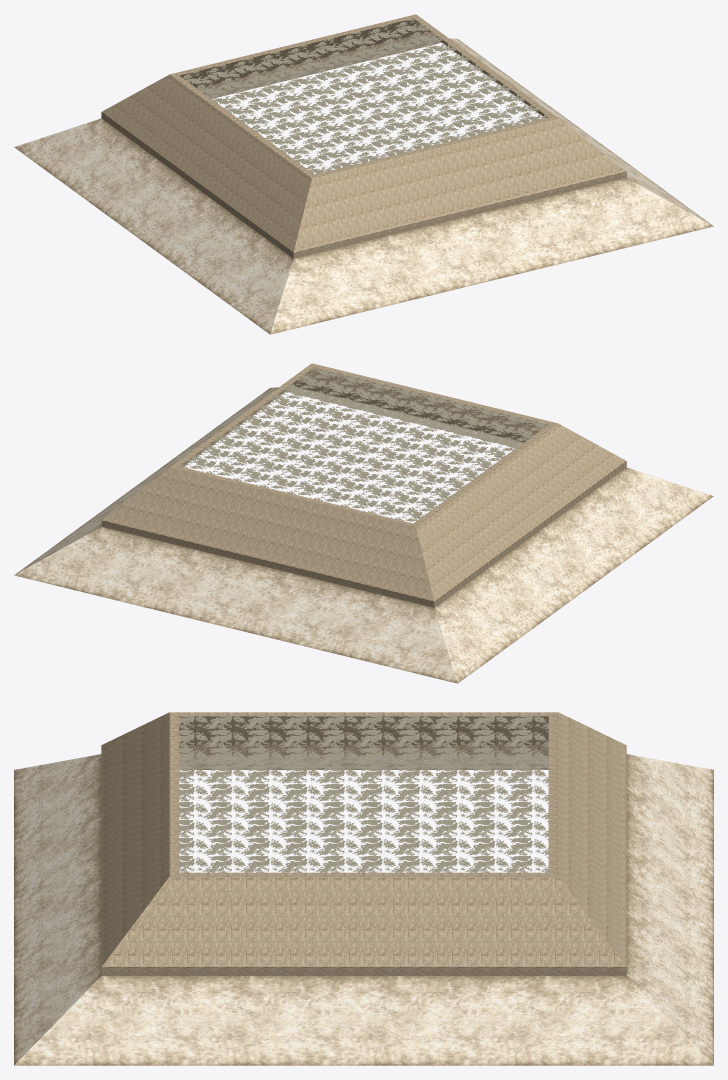
Rendered from ply_tato_garden_sml_s01_l1.fbx.
The picture shows the model from 3 angles, top to bottom: view 1: azimuth 30°, elevation 25°; view 2: azimuth 150°, elevation 25°; view 3: azimuth 270°, elevation 25°; orthographic projection. The views are drawn at different scales.
Parts seen in each view (by area): view 1: mesh_node; view 2: mesh_node; view 3: mesh_node.
Part boxes in pixels (x1=…): mesh_node: x1=14, y1=14, x2=713, y2=334; mesh_node: x1=14, y1=363, x2=713, y2=683; mesh_node: x1=14, y1=712, x2=713, y2=1065.
Size of the model in its own units: 18 by 3.5 by 18.
